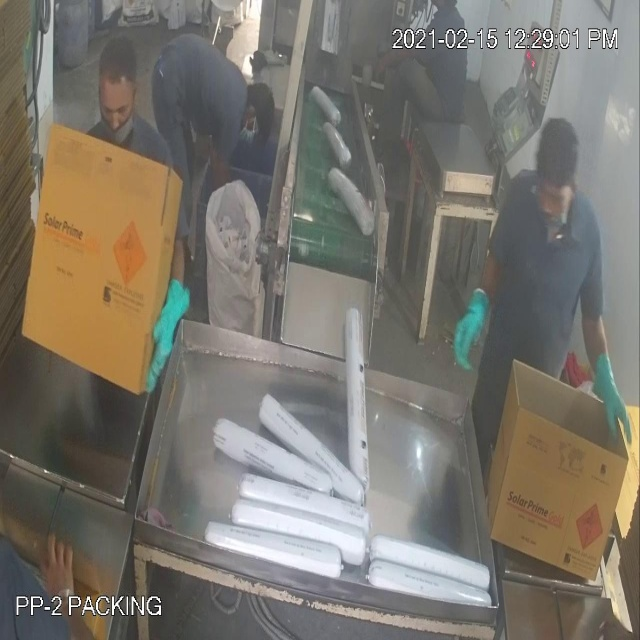Guantes: (135, 269, 200, 404), (440, 275, 505, 387), (585, 333, 637, 455)
Sin_guantes: (28, 515, 95, 638), (366, 28, 434, 89)
